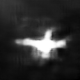plane: (13, 27, 69, 62)
